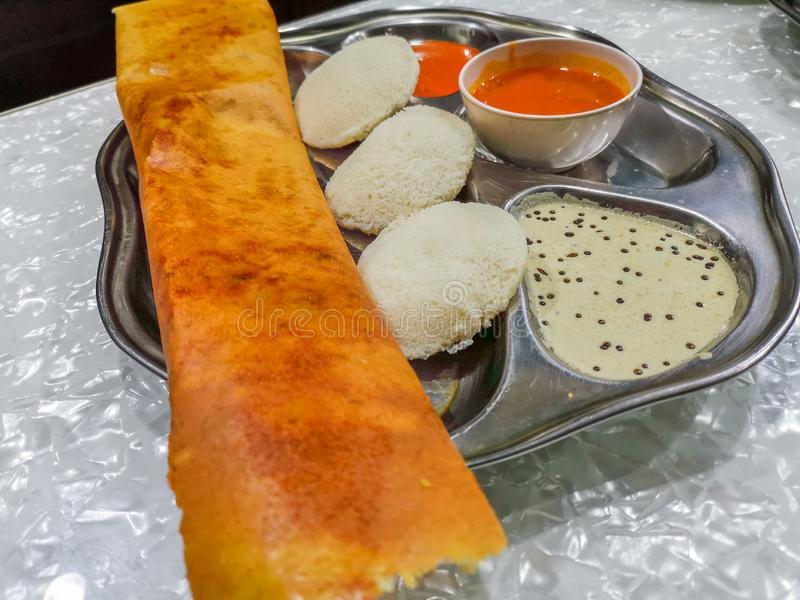dosa: (105, 1, 503, 600)
